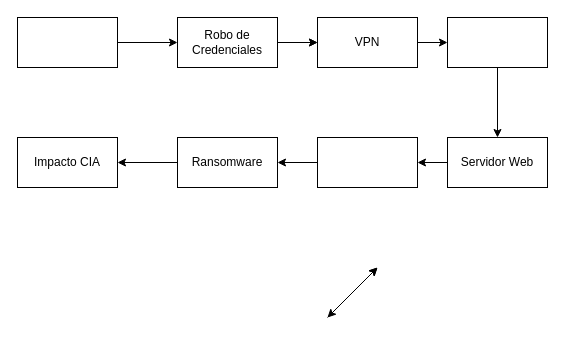
Image size: 565x344. Some labels were removed from this diagram. Here are the shapes that lost their labels. From the top down, the centre of each, then its label:
the point at 67,42: Spear Phishing
the point at 497,42: Movimiento lateral
the point at 367,162: Base de Datos
